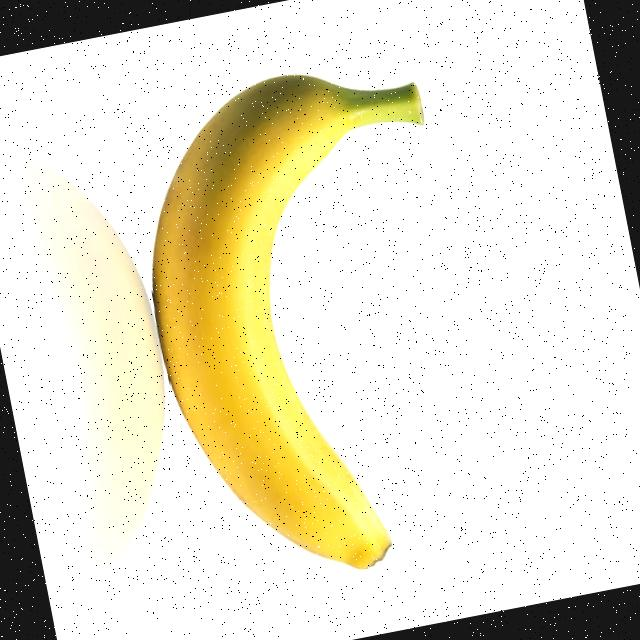Ripe: (106, 40, 511, 606)
